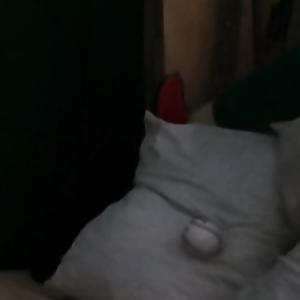ball: (181, 217, 226, 263)
